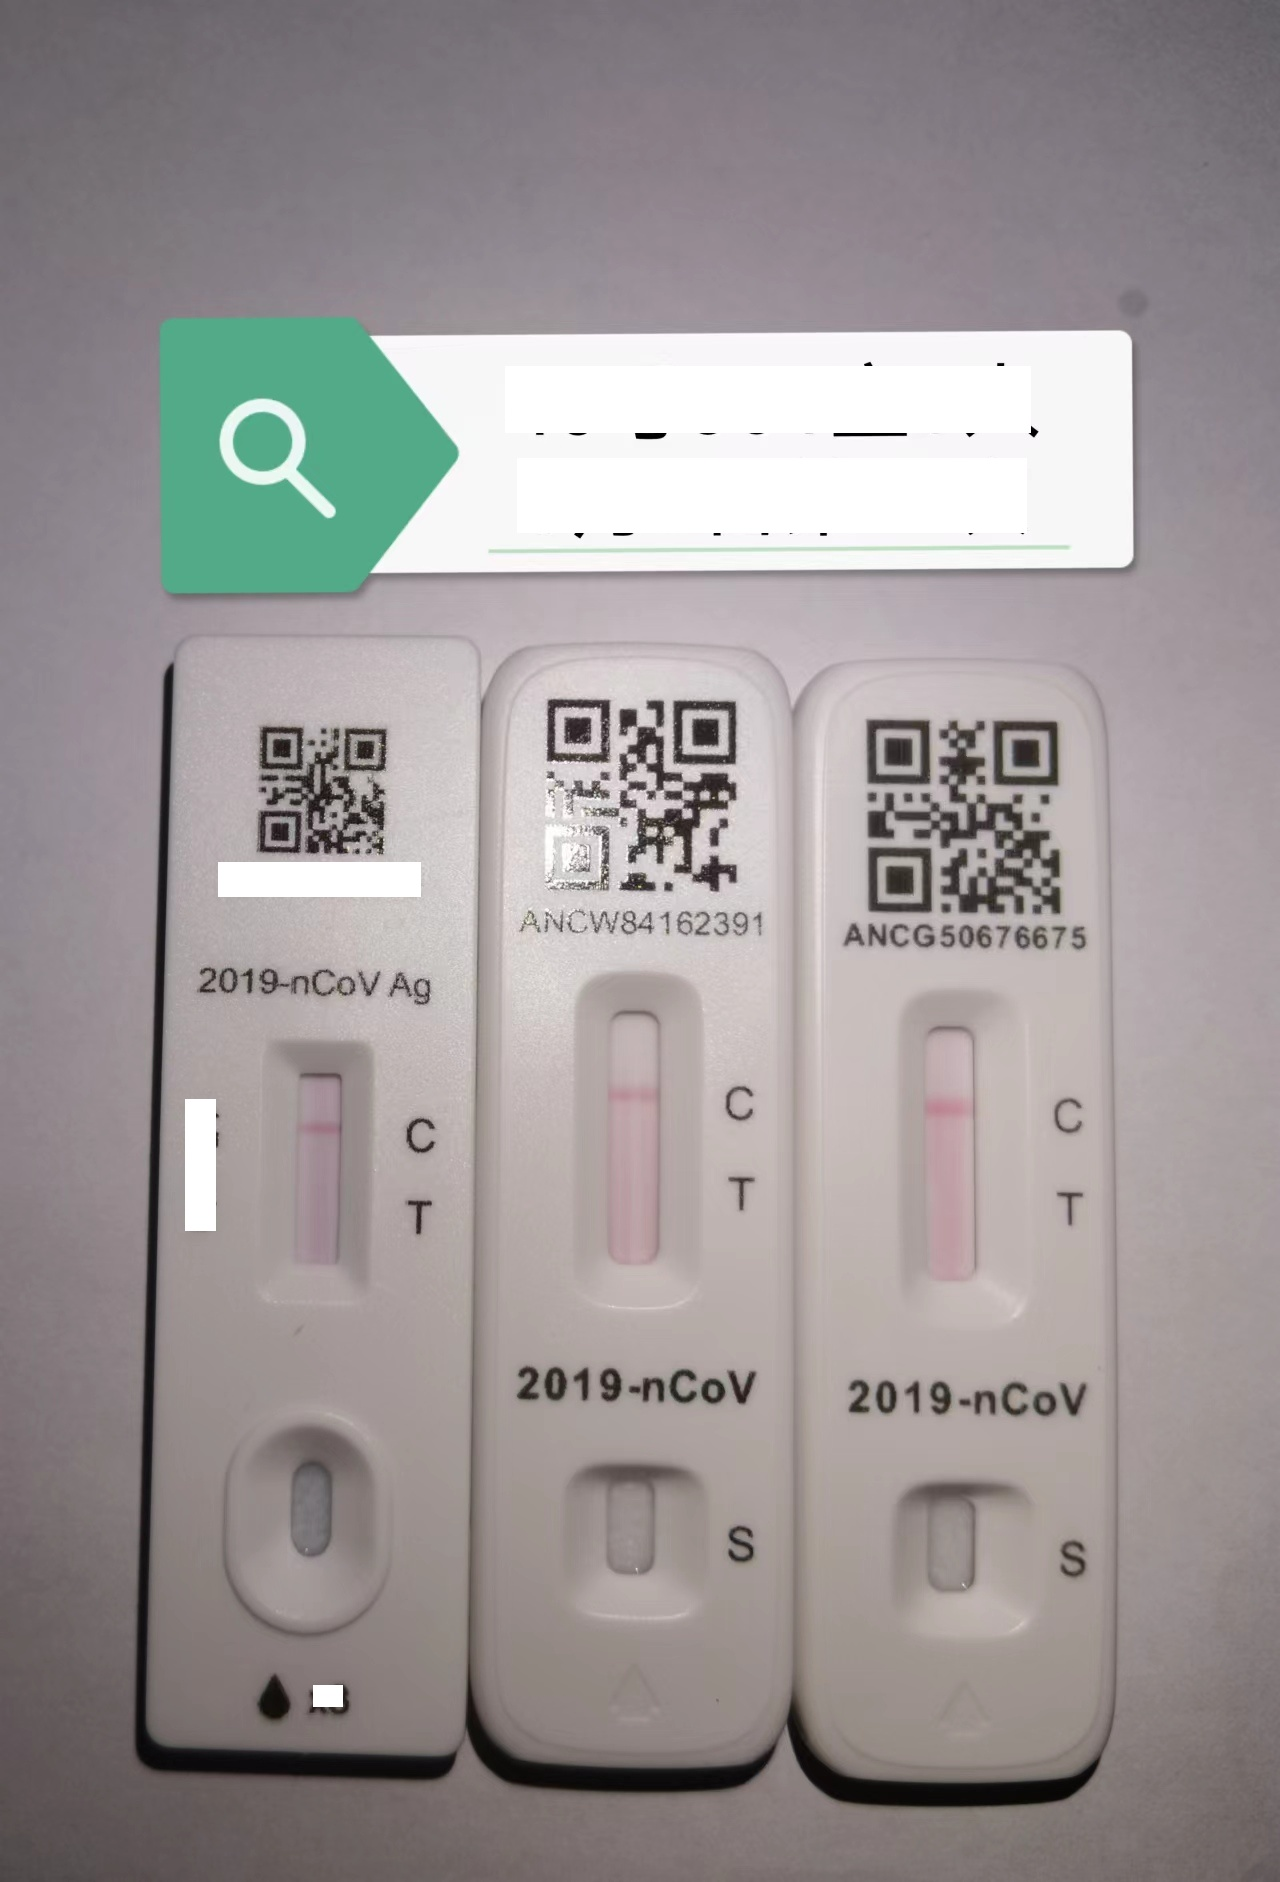negative: (574, 967, 701, 1321), (899, 985, 1017, 1332), (266, 1040, 374, 1292)
